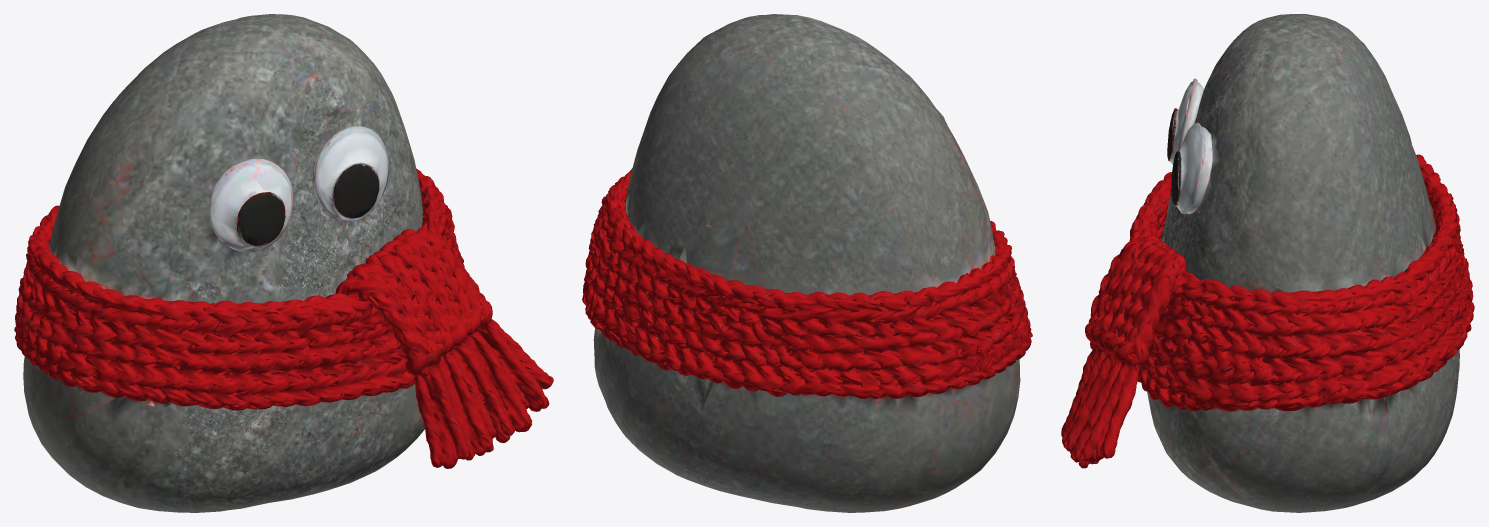
The model's file is rock.glb.
The picture shows the model from 3 angles, left to right: view 1: azimuth 30°, elevation 25°; view 2: azimuth 150°, elevation 25°; view 3: azimuth 270°, elevation 25°; orthographic projection.
Parts seen in each view (by area): view 1: Mesh_0; view 2: Mesh_0; view 3: Mesh_0.
Boxes of the visible parts, left/top/right/bottom form: Mesh_0: left=14, top=14, right=553, bottom=512; Mesh_0: left=582, top=14, right=1032, bottom=512; Mesh_0: left=1061, top=14, right=1474, bottom=512.
Bounding box in the file's own units: 0.0779 × 0.08 × 0.0673.
Materials: 1 (1 with a texture image).
